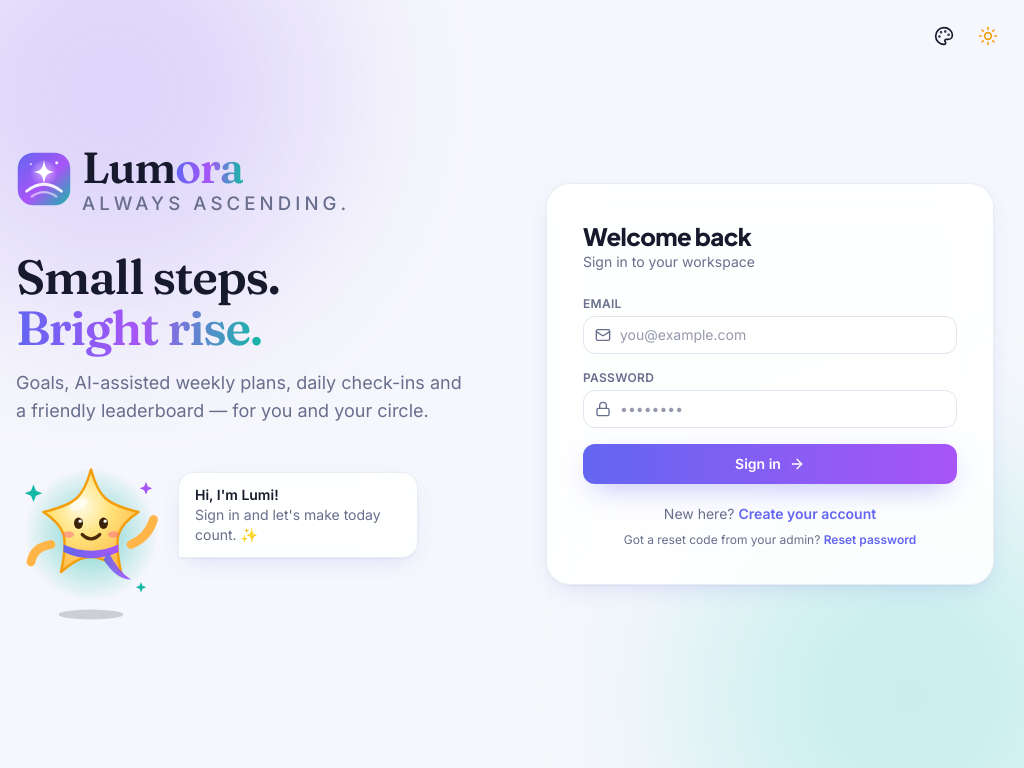
Test case: Login › shows a friendly message on 401
Type "a@b.co" into the field labelled "Email" at {"x": 770, "y": 335}, box 583,316 -> 957,354
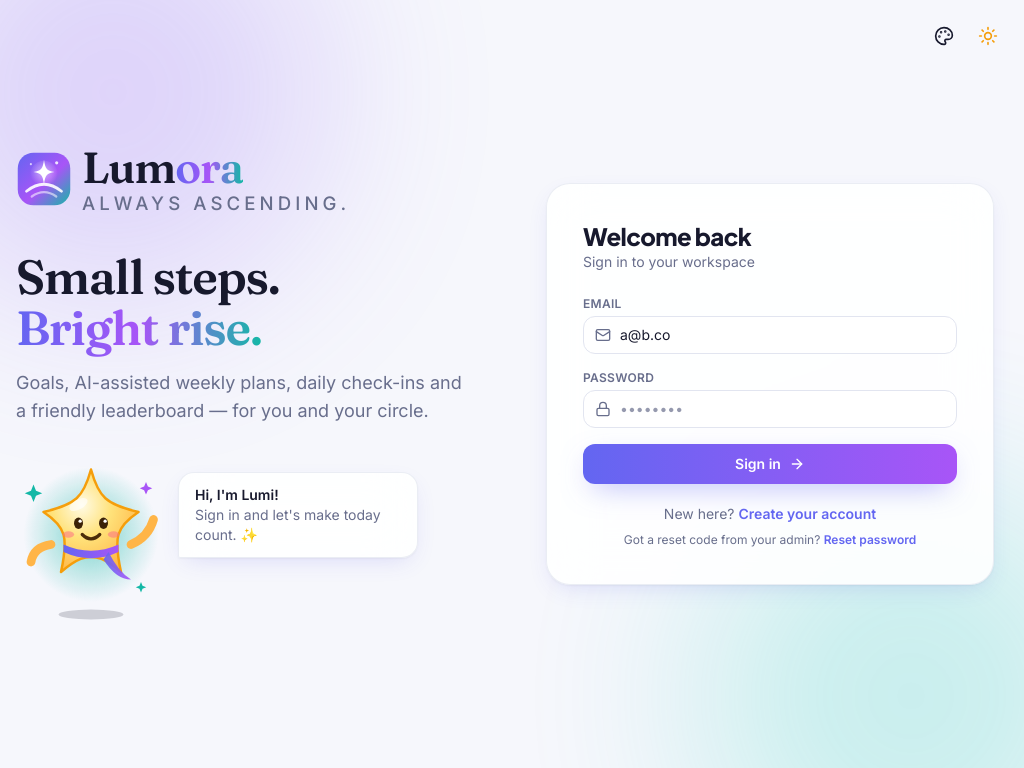
Type "secret123" into the password field labelled "Password" at {"x": 770, "y": 409}, box 583,390 -> 957,428
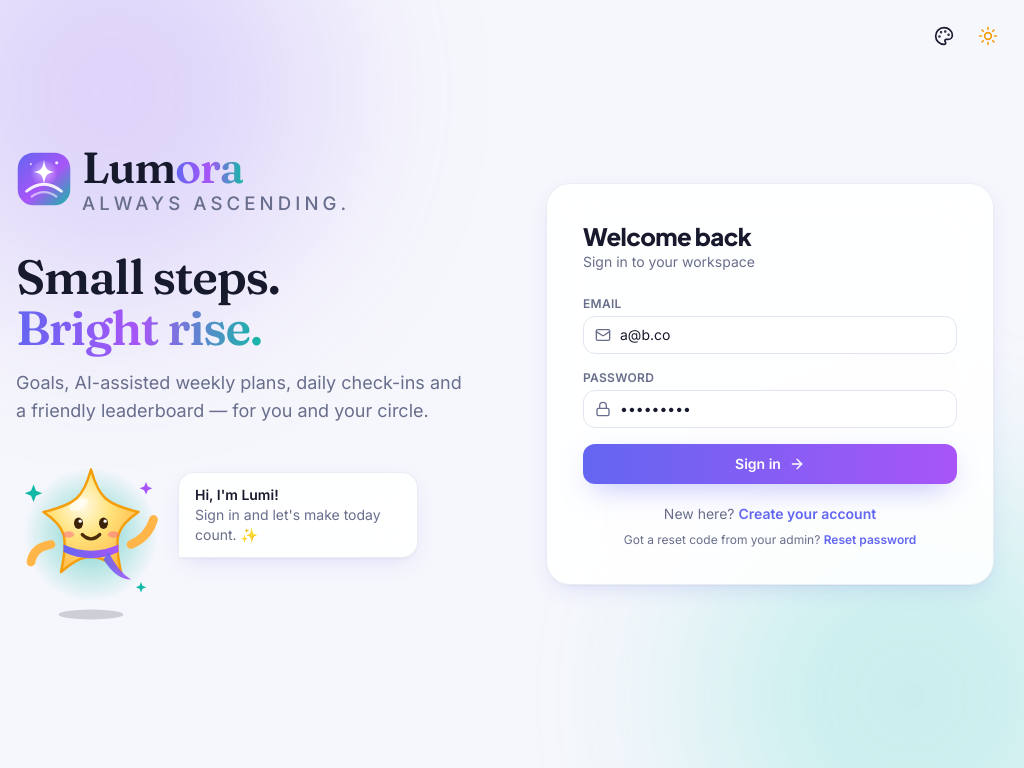
Click the button "Sign in" at {"x": 770, "y": 464}, box 583,444 -> 957,484
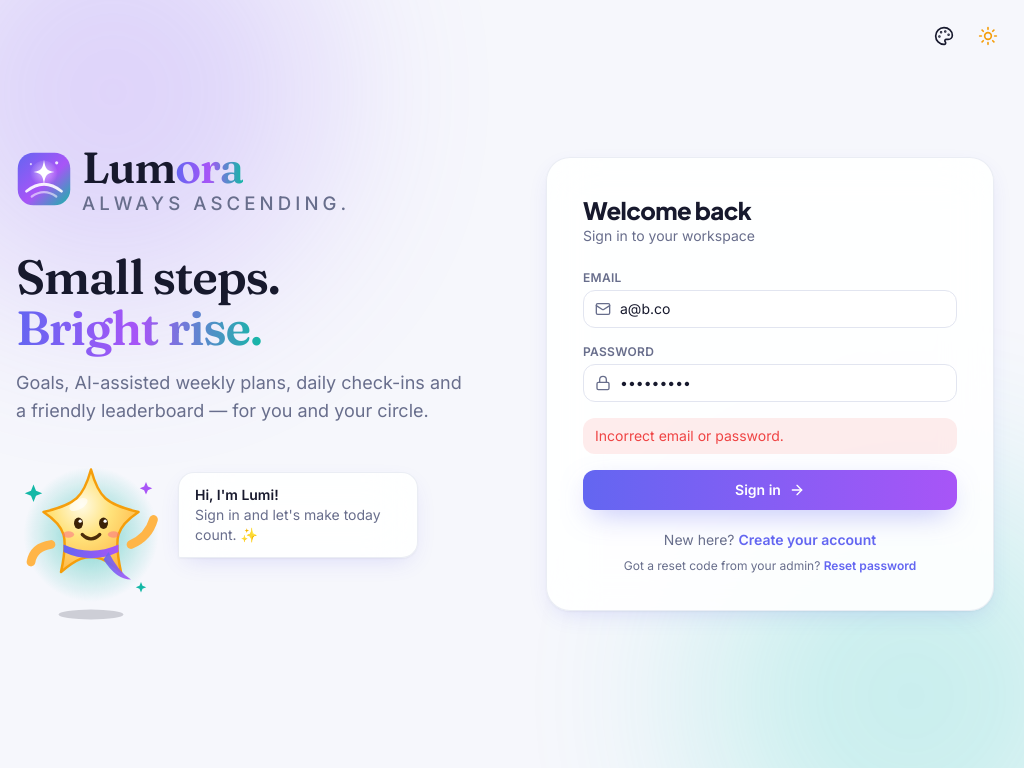
expect the message shows "Incorrect email or password": met, box 595,427 -> 784,444
